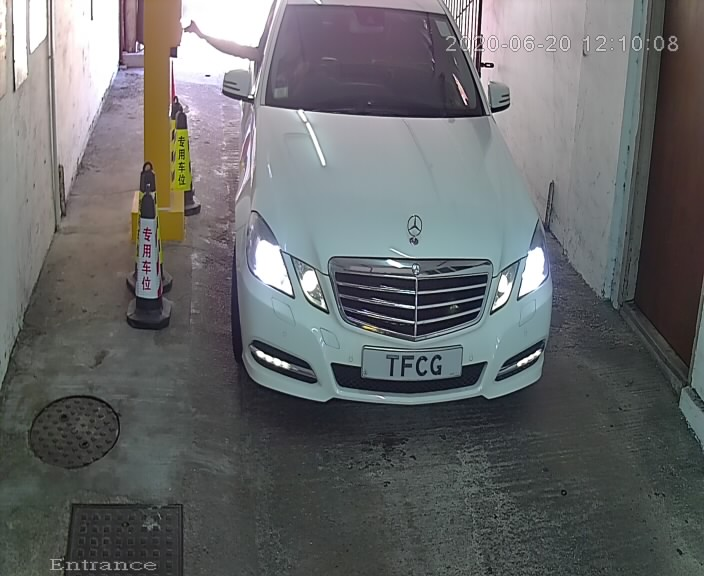privatecar: (208, 3, 566, 456)
